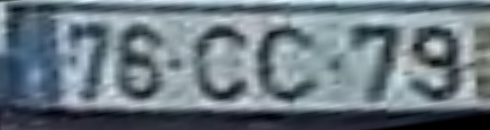6: (115, 20, 172, 105)
7: (342, 25, 408, 107), (64, 22, 118, 105)
9: (408, 23, 468, 104)
C: (251, 23, 323, 107), (185, 22, 255, 106)
